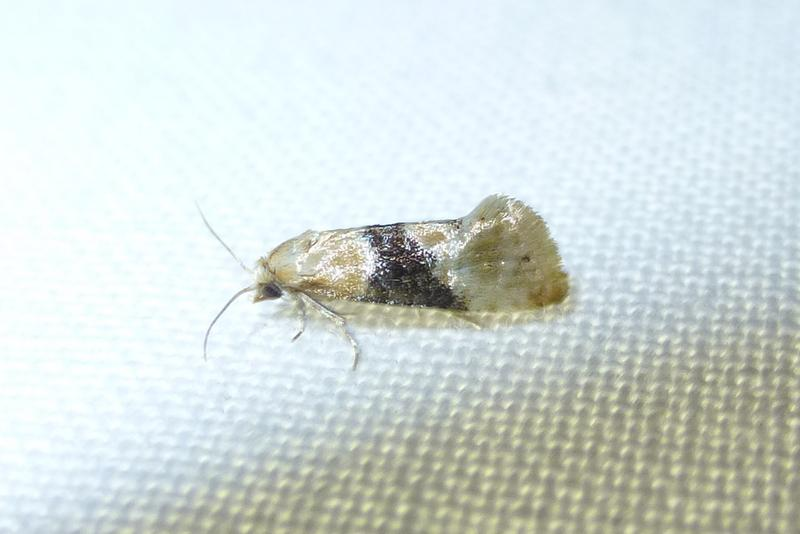Eupoecilia Ambiguella: (190, 188, 574, 372)
